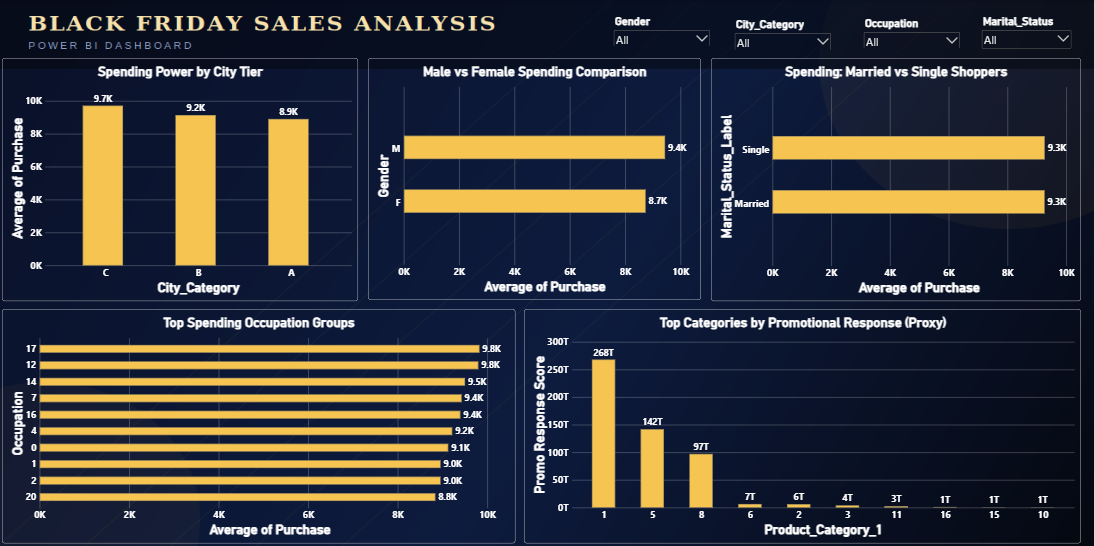

This screenshot's page, from the dashboard's own definition file:
{"tool":"powerbi","page":{"name":"Marketing Dashboard","canvas":[3000,1500],"ordinal":1},"visuals":[{"type":"columnChart","title":"Spending Power by City Tier","fields":{"Category":["blackfriday sales.City_Category"],"Y":["Avg(blackfriday sales.Purchase)"]},"box":[21.8,158.2,970.9,662.7],"z":0},{"type":"barChart","title":"Male vs Female Spending Comparison","fields":{"Category":["blackfriday sales.Gender"],"Y":["Avg(blackfriday sales.Purchase)"]},"box":[1020,158.2,908.2,660],"z":1000},{"type":"barChart","title":"Spending: Married vs Single Shoppers","fields":{"Y":["Avg(blackfriday sales.Purchase)"],"Category":["blackfriday sales.Marital_Status_Label"]},"box":[1955.5,158.2,1009.1,662.7],"z":2000},{"type":"barChart","title":"Top Spending Occupation Groups","fields":{"Category":["blackfriday sales.Occupation"],"Y":["Avg(blackfriday sales.Purchase)"]},"box":[22.6,841.9,1400,638.7],"z":3000},{"type":"clusteredColumnChart","title":"Top Categories by Promotional Response (Proxy)","fields":{"Category":["blackfriday sales.Product_Category_1"],"Y":["blackfriday sales.Promo Response Score"]},"box":[1445.5,842.7,1519.4,638.7],"z":4000},{"type":"slicer","fields":{"Values":["blackfriday sales.Gender"]},"box":[1685.9,40.3,272,84],"z":4008},{"type":"slicer","fields":{"Values":["blackfriday sales.City_Category"]},"box":[2014.4,49,272,86],"z":4009},{"type":"slicer","fields":{"Values":["blackfriday sales.Occupation"]},"box":[2366,46.1,272,84],"z":4010},{"type":"slicer","fields":{"Values":["blackfriday sales.Marital_Status"]},"box":[2688.8,40.3,253.6,95.5],"z":4011}]}

Visuals, with their boxes in screenshot pixels (x1, y1, x2, y2), scaled from the page's 3000x1500 canvas onto the 1095x546 screenshot:
"Spending Power by City Tier" columnChart: 8:58:362:299
"Male vs Female Spending Comparison" barChart: 372:58:704:298
"Spending: Married vs Single Shoppers" barChart: 714:58:1082:299
"Top Spending Occupation Groups" barChart: 8:306:519:539
"Top Categories by Promotional Response (Proxy)" clusteredColumnChart: 528:307:1082:539
slicer - blackfriday sales.Gender: 615:15:715:45
slicer - blackfriday sales.City_Category: 735:18:835:49
slicer - blackfriday sales.Occupation: 864:17:963:47
slicer - blackfriday sales.Marital_Status: 981:15:1074:49
